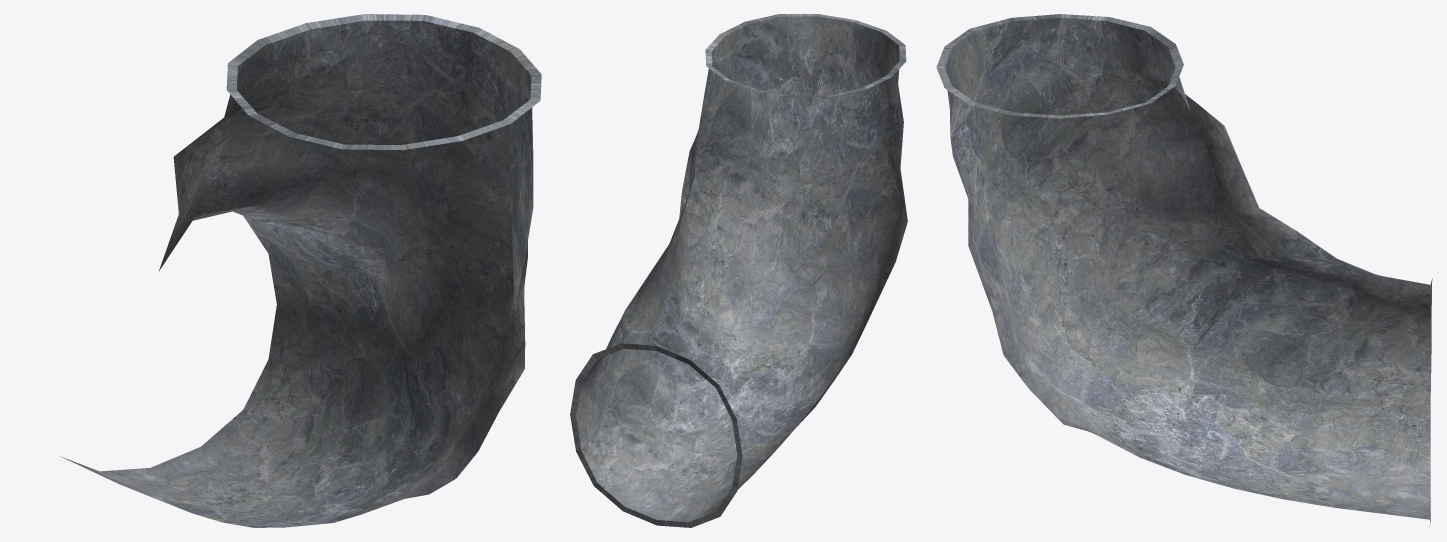
Rendered from cave_corner_up.glb.
The picture shows the model from 3 angles, left to right: view 1: azimuth 30°, elevation 25°; view 2: azimuth 150°, elevation 25°; view 3: azimuth 270°, elevation 25°; orthographic projection. The views are drawn at different scales.
Parts seen in each view (by area): view 1: cave_corner_up; view 2: cave_corner_up; view 3: cave_corner_up.
Boxes of the visible parts, bbox=[...] form: cave_corner_up: bbox=[60, 14, 541, 527]; cave_corner_up: bbox=[570, 14, 907, 527]; cave_corner_up: bbox=[936, 14, 1432, 526].
Bounding box in the file's own units: 3.61 × 6.03 × 6.03.
1 material, 1 textured.
